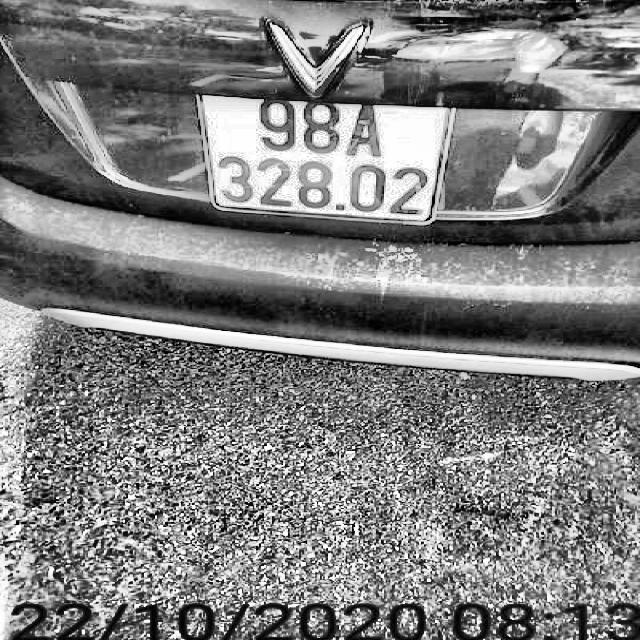plate: (190, 87, 464, 227)
